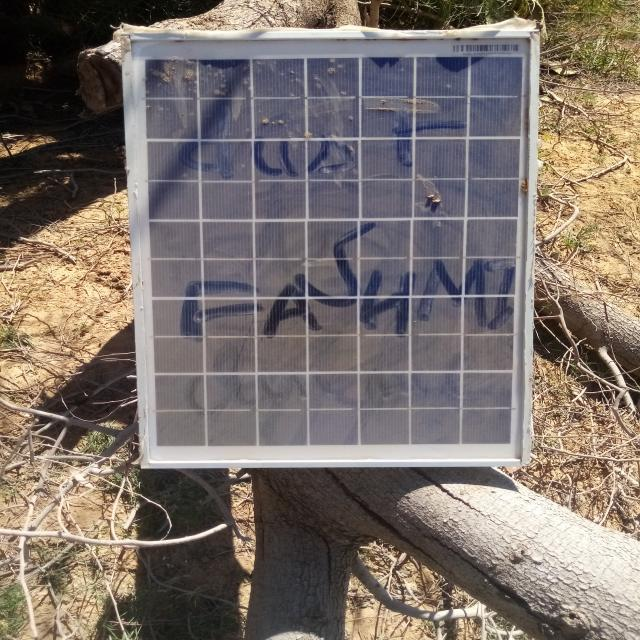faulty: (125, 33, 534, 466)
